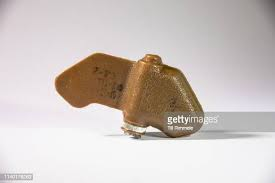butterfly: (51, 45, 208, 145)
